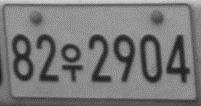0: (139, 33, 162, 83)
2: (34, 33, 59, 82), (88, 33, 111, 82)
4: (165, 33, 191, 83)
8: (11, 33, 34, 81)
9: (112, 33, 137, 82)
우: (60, 43, 83, 82)
